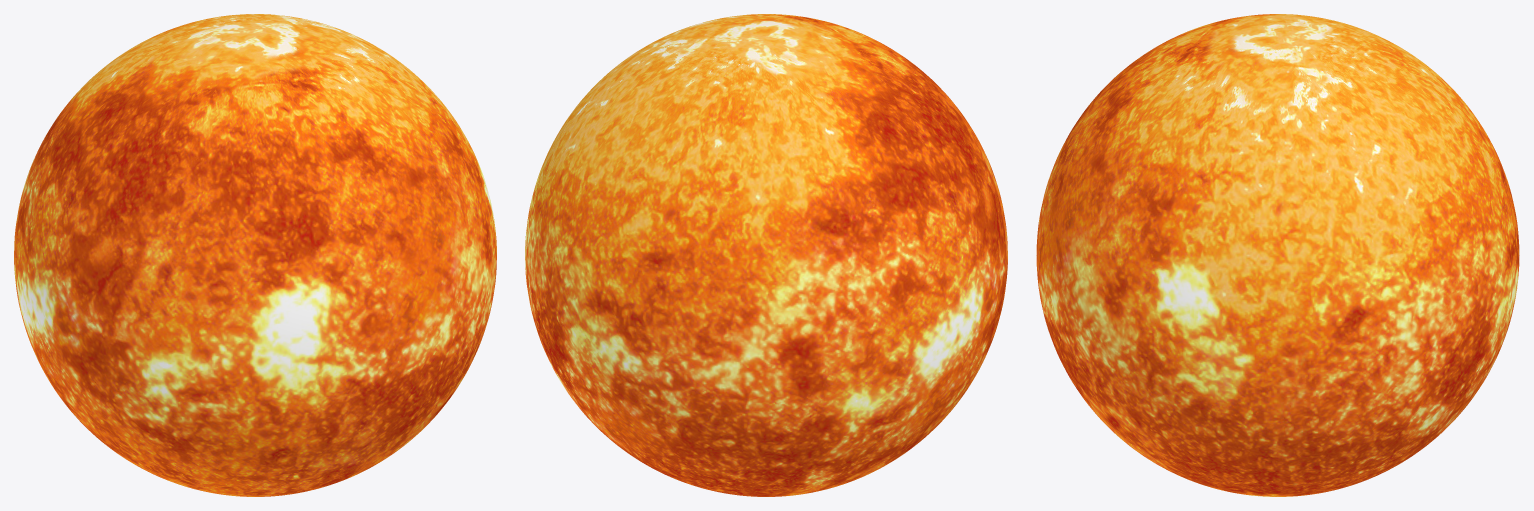
File: Sol.glb
3 views of the same model, side by side, from view 1: azimuth 30°, elevation 25°; view 2: azimuth 150°, elevation 25°; view 3: azimuth 270°, elevation 25° (orthographic).
Parts seen in each view (by area): view 1: pSphere1.1; view 2: pSphere1.1; view 3: pSphere1.1.
Boxes of the visible parts, left/top/right/bottom form: pSphere1.1: left=14, top=14, right=496, bottom=496; pSphere1.1: left=525, top=14, right=1007, bottom=496; pSphere1.1: left=1036, top=14, right=1519, bottom=496.
Size of the model in its own units: 0.2 by 0.2 by 0.2.
1 material, 1 textured.
